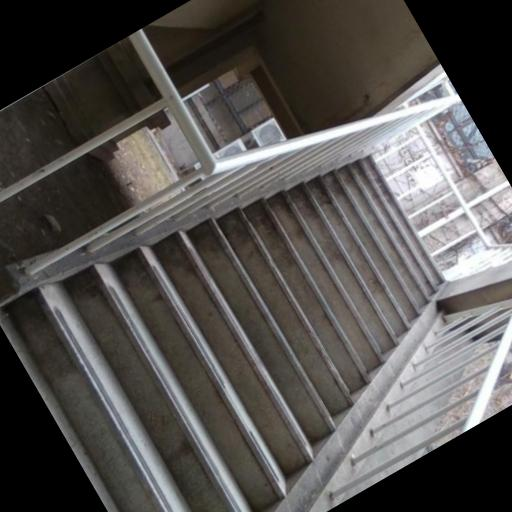stairs: (7, 159, 441, 511)
